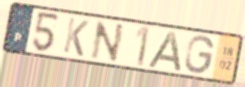1: (134, 24, 151, 69)
5: (30, 9, 62, 55)
A: (145, 30, 184, 74)
G: (183, 34, 216, 75)
K: (61, 16, 91, 59)
N: (89, 20, 127, 64)
